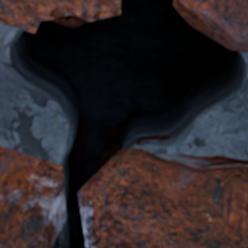broken_brick: (98, 148, 247, 247), (0, 145, 61, 247), (174, 0, 247, 53), (0, 0, 119, 31)
crack: (0, 0, 247, 247)
